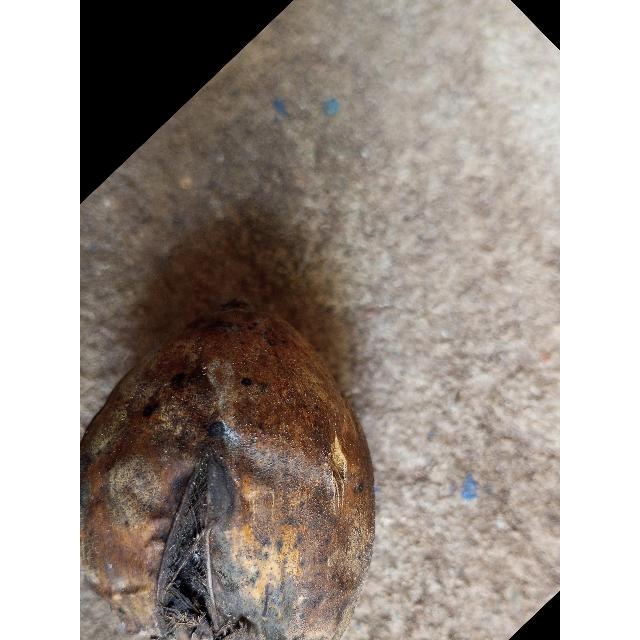damaged: (81, 302, 375, 640)
